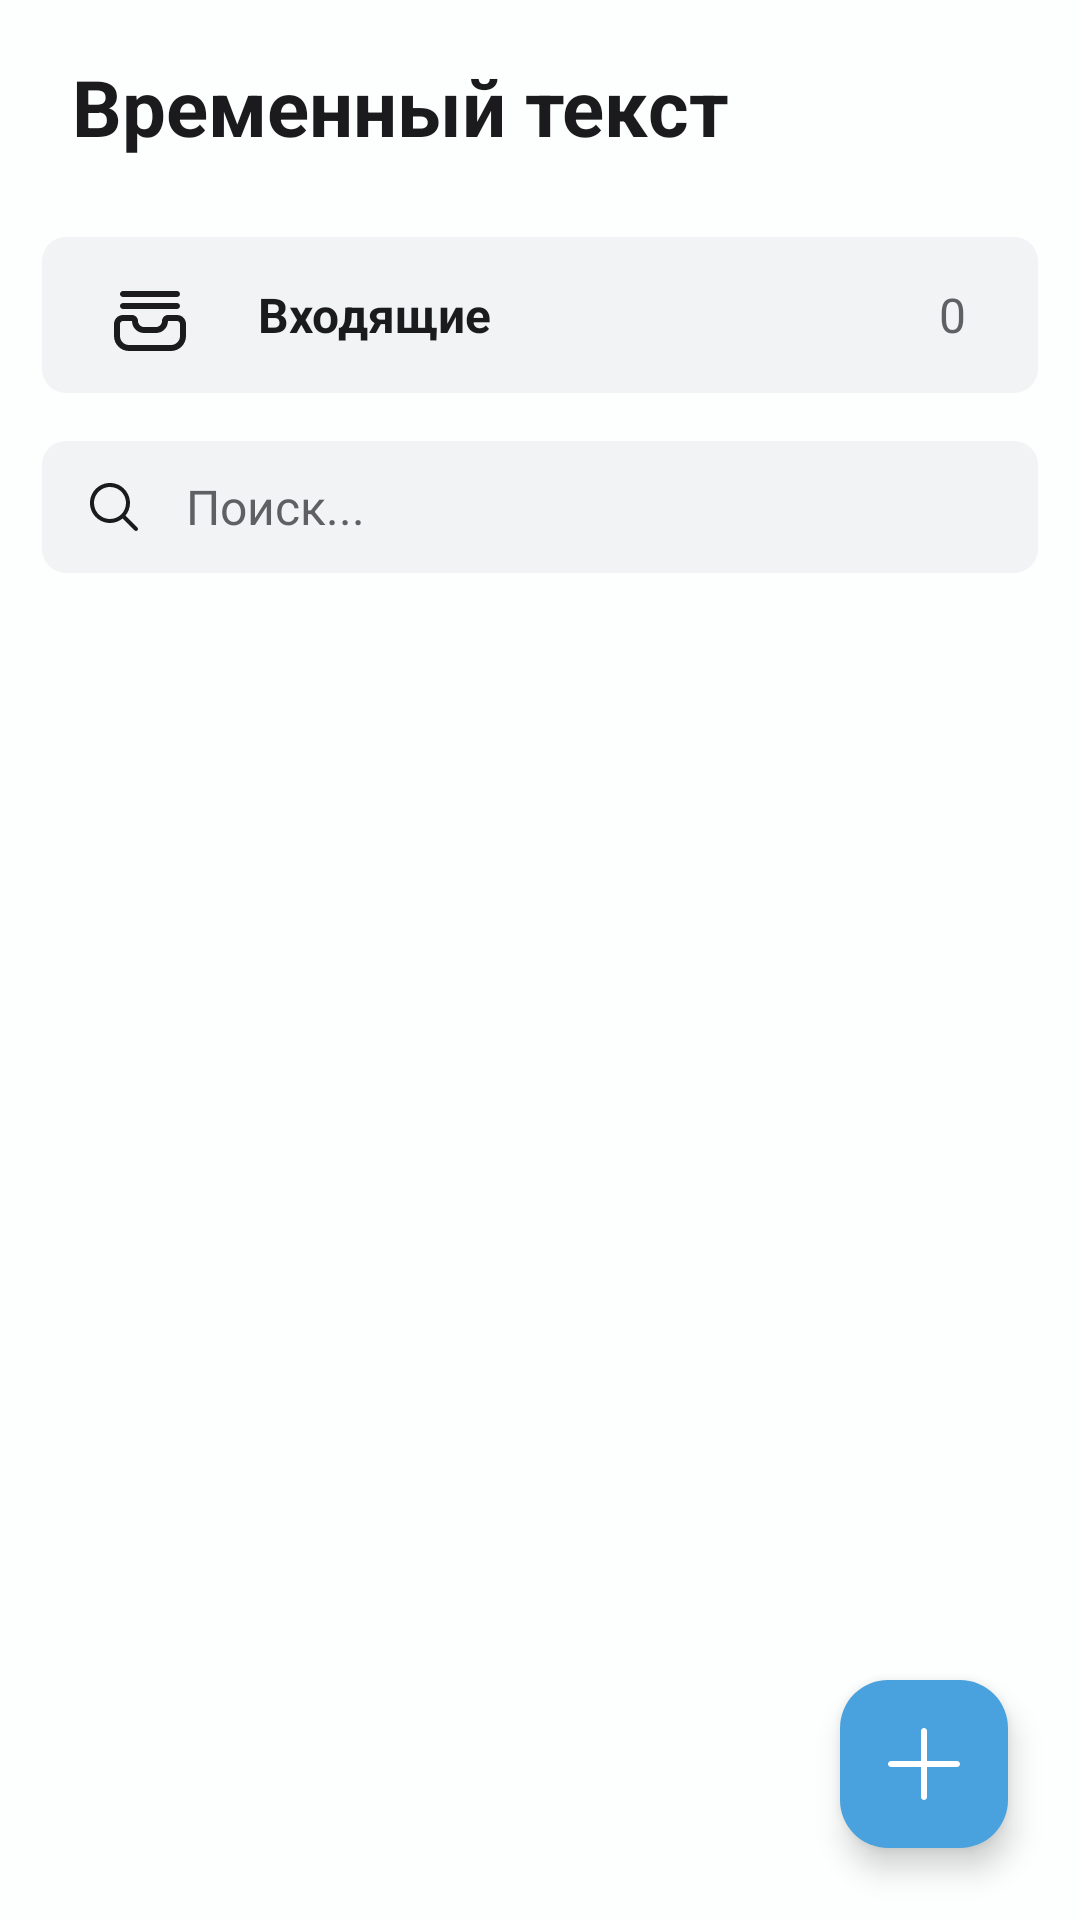

Named icons in this screenshot (1080w x 1920h) and their centers, (x=x, y=y):
inbox: (x=150, y=321)
search: (x=114, y=507)
Добавить быструю задачу: (x=924, y=1764)
